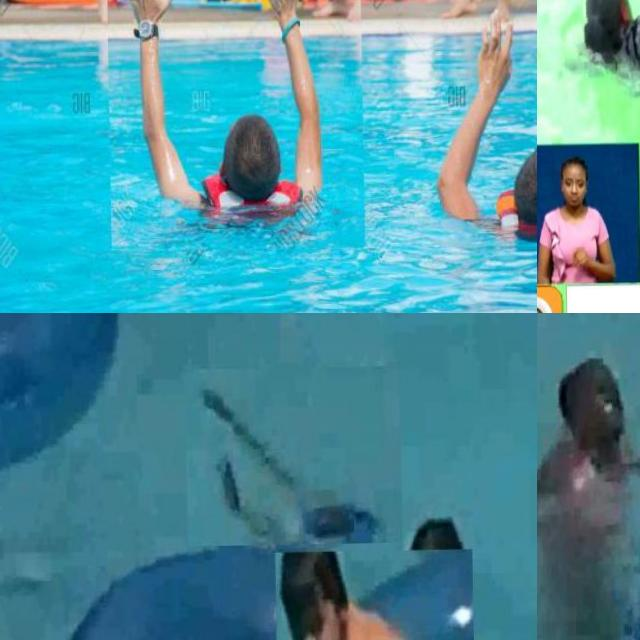drowning: (105, 0, 364, 252), (183, 366, 403, 548), (437, 17, 537, 241), (537, 314, 640, 513)
swimming: (272, 549, 474, 640), (566, 0, 640, 110)
